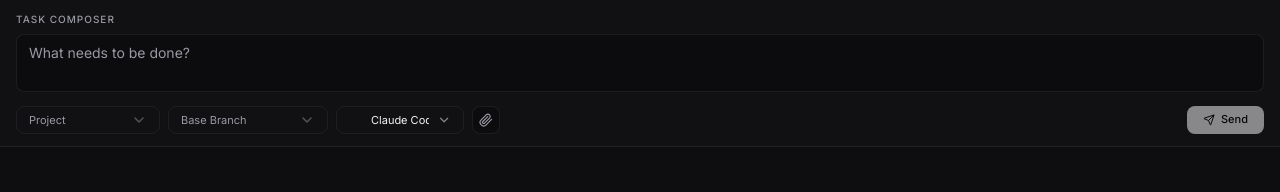
Test: TaskComposer › defaults base branch to the project's configured branchFrom when present
The image size is (1280, 192).
Click the dropdown with test id "composer-project" at (88, 120), box [16, 106, 160, 134]
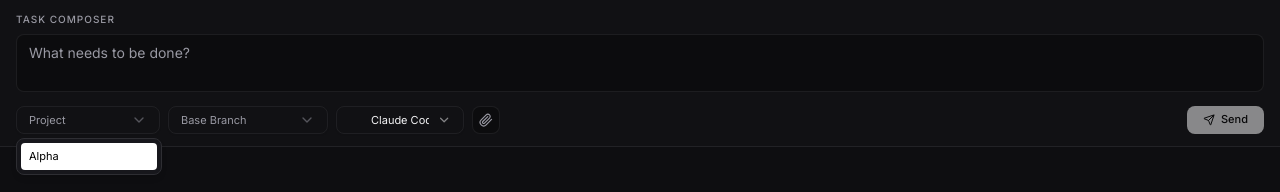
Click the option "Alpha" at (89, 157), box [21, 143, 157, 170]
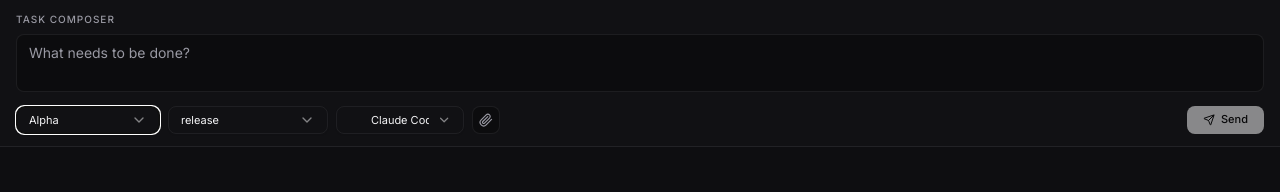
Now the dropdown with test id "composer-branch" reads "release", box [168, 106, 328, 134]
